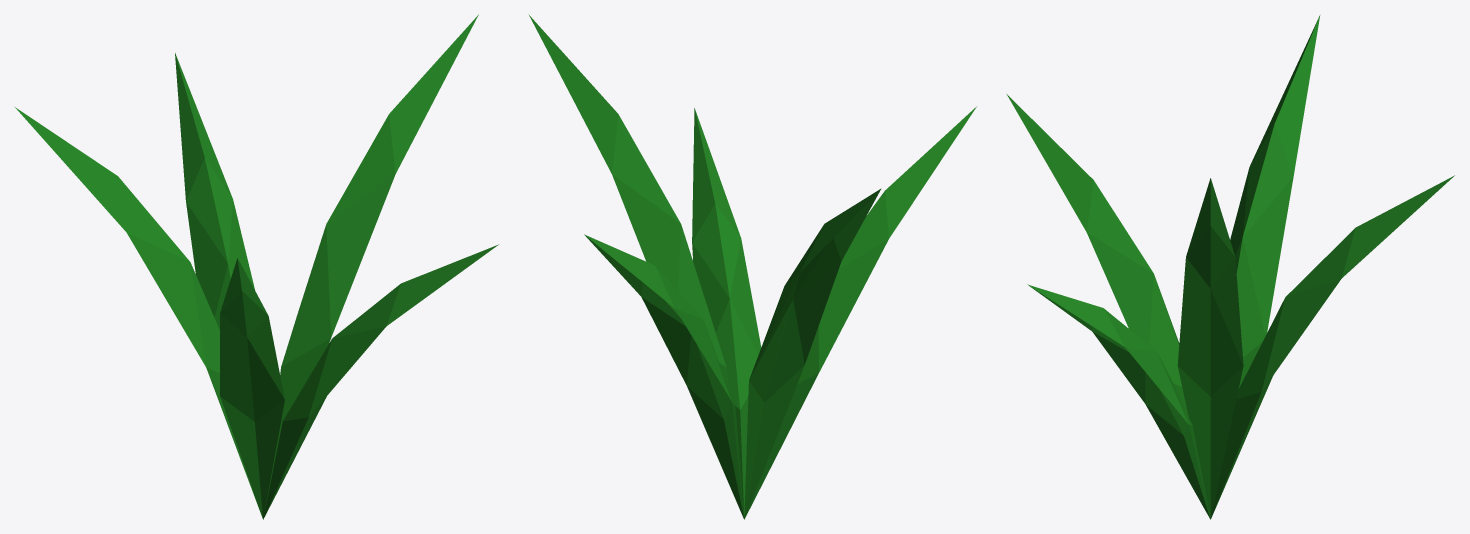
Rendered from Hilly_Prop_Grass_Clump_3.obj.
The picture shows the model from 3 angles, left to right: view 1: azimuth 30°, elevation 25°; view 2: azimuth 150°, elevation 25°; view 3: azimuth 270°, elevation 25°; orthographic projection.
Visible parts, largest first — view 1: object5, object2, object1, object4, object3; view 2: object1, object3, object5, object4, object2; view 3: object5, object1, object2, object4, object3.
Boxes of the visible parts, x1=… form: object5: x1=264, y1=14, x2=478, y2=511; object2: x1=220, y1=258, x2=284, y2=519; object1: x1=15, y1=107, x2=261, y2=514; object4: x1=175, y1=53, x2=254, y2=329; object3: x1=263, y1=244, x2=498, y2=518; object1: x1=744, y1=188, x2=881, y2=519; object3: x1=692, y1=108, x2=761, y2=517; object5: x1=528, y1=14, x2=728, y2=389; object4: x1=584, y1=234, x2=744, y2=519; object2: x1=745, y1=106, x2=976, y2=517; object5: x1=1177, y1=178, x2=1243, y2=518; object1: x1=1230, y1=15, x2=1320, y2=388; object2: x1=1006, y1=94, x2=1186, y2=408; object4: x1=1211, y1=175, x2=1454, y2=518; object3: x1=1027, y1=284, x2=1210, y2=519.
Bounding box in the file's own units: 0.6287 × 0.6656 × 0.6077.
